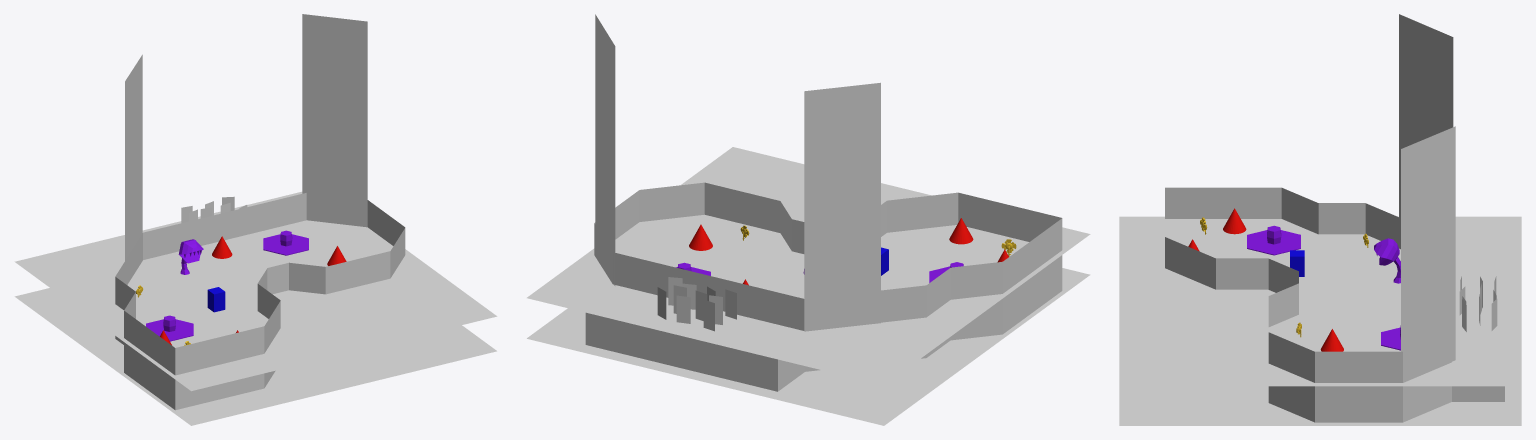
File: N2-Pantano.fbx
The picture shows the model from 3 angles, left to right: view 1: azimuth 30°, elevation 25°; view 2: azimuth 150°, elevation 25°; view 3: azimuth 270°, elevation 25°; orthographic projection. The views are drawn at different scales.
Parts seen in each view (by area): view 1: Base.001, LIMITE 1-2, Arbol Sequoia.006, Arbol Sequoia.001, Barriles en Barro.003, Barriles en Barro.002, Planta Carnivora; view 2: Base.001, LIMITE 1-2, Arbol Sequoia.001, Arbol Sequoia.006; view 3: Base.001, LIMITE 1-2, Arbol Sequoia.006, Arbol Sequoia.001, Barriles en Barro.002, Planta Carnivora, Barriles en Barro.003.
Boxes of the visible parts, box(x1,y1,x2,y2) form: Base.001: box(14, 191, 497, 425); LIMITE 1-2: box(115, 193, 405, 375); Arbol Sequoia.006: box(302, 14, 367, 227); Arbol Sequoia.001: box(125, 54, 142, 260); Barriles en Barro.003: box(263, 230, 308, 255); Barriles en Barro.002: box(146, 315, 193, 341); Planta Carnivora: box(178, 239, 203, 274); Base.001: box(527, 147, 1090, 425); LIMITE 1-2: box(594, 182, 1062, 330); Arbol Sequoia.001: box(804, 82, 880, 331); Arbol Sequoia.006: box(595, 14, 615, 285); Base.001: box(1119, 216, 1521, 425); LIMITE 1-2: box(1165, 187, 1451, 382); Arbol Sequoia.006: box(1401, 126, 1455, 361); Arbol Sequoia.001: box(1399, 14, 1453, 217); Barriles en Barro.002: box(1247, 225, 1300, 255); Planta Carnivora: box(1374, 238, 1400, 283); Barriles en Barro.003: box(1381, 325, 1400, 350).
Size of the model in its own units: 1845 by 1384 by 1845.
